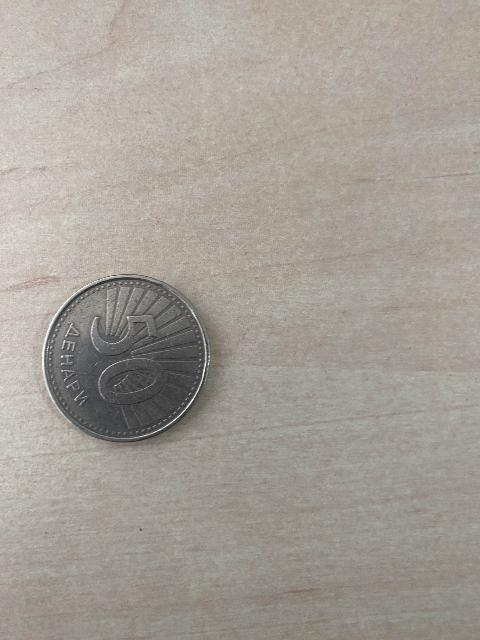50_coin: (43, 275, 209, 442)
